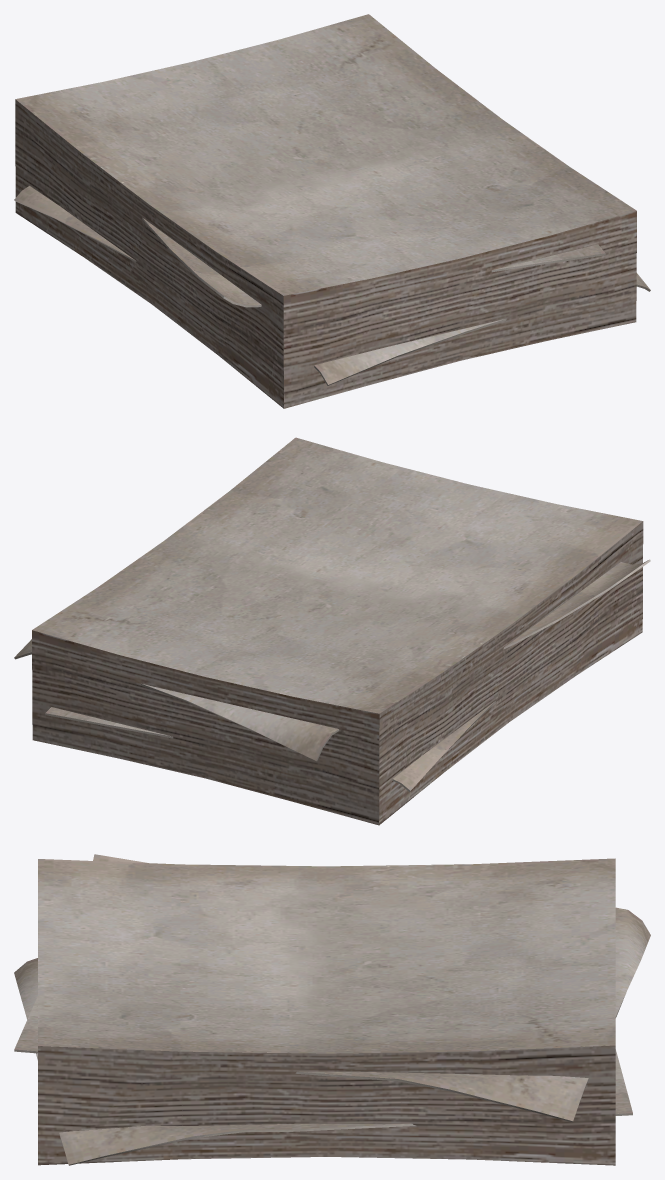
Rendered from papers_printed_stack01.dae.
3 views of the same model, one above another, from view 1: azimuth 30°, elevation 25°; view 2: azimuth 150°, elevation 25°; view 3: azimuth 270°, elevation 25° (orthographic). The views are drawn at different scales.
Parts seen in each view (by area): view 1: stack01; view 2: stack01; view 3: stack01.
Part boxes in pixels (x1,y1,x2,y2): stack01: (14,14,650,408); stack01: (14,437,650,825); stack01: (14,854,650,1165).
Size of the model in its own units: 0.2268 by 0.0579 by 0.273.
